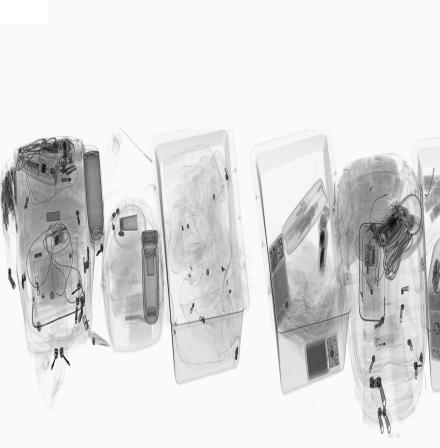Powerbank: (304, 330, 341, 386)
